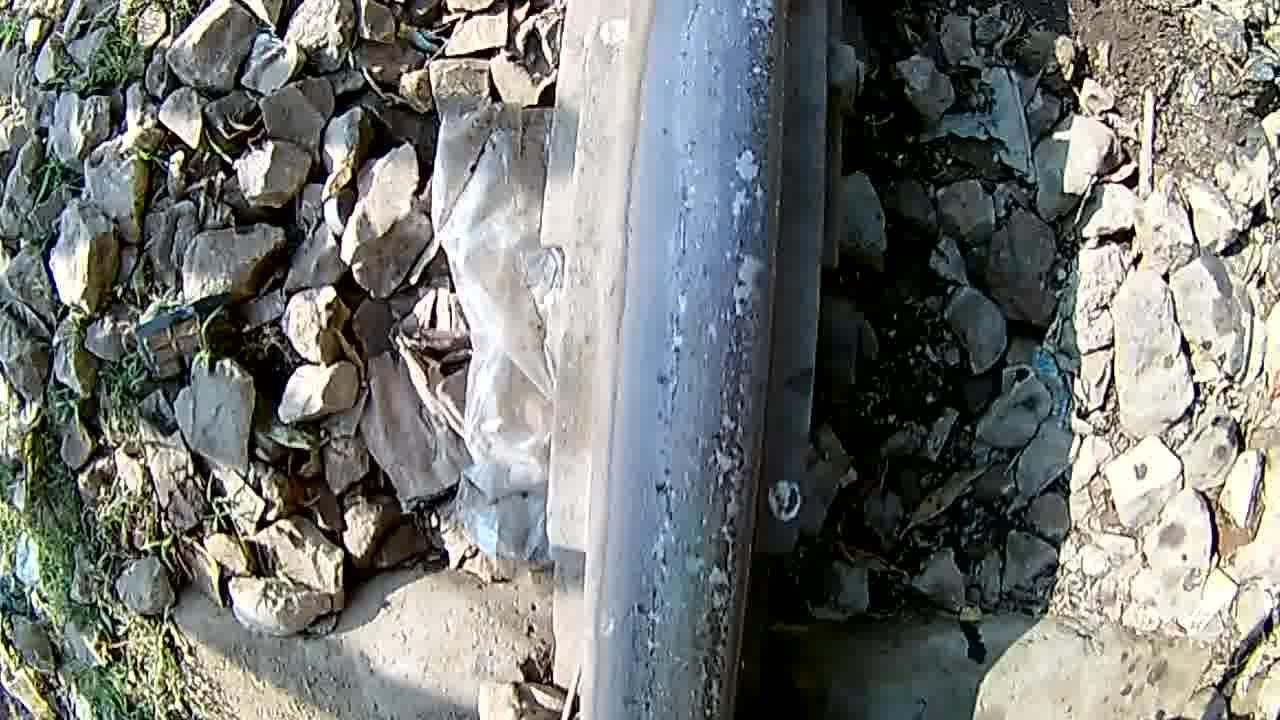crack: (594, 0, 793, 720)
